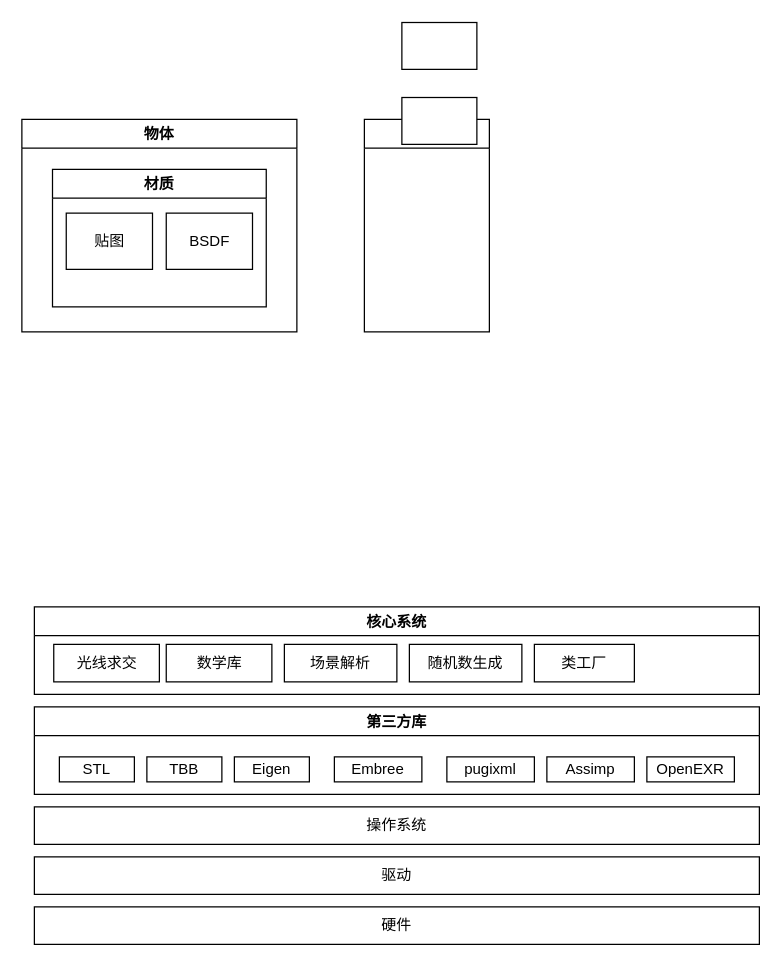
The diagram is 781 pixels wide and 966 high, and some of its shapes have lost their labels. The centre of each missing label's shape, as x and y in pixels:
发光物: the point at 439,120
环境光: the point at 439,45
